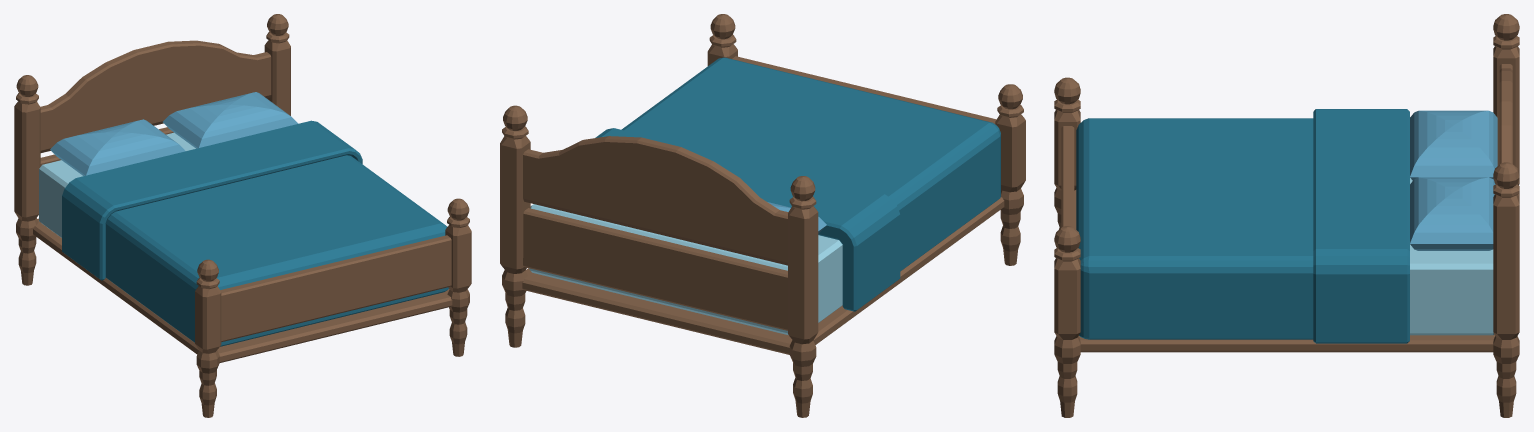
File: Prop_Bedroom_Bed_Queen.obj
The picture shows the model from 3 angles, left to right: view 1: azimuth 30°, elevation 25°; view 2: azimuth 150°, elevation 25°; view 3: azimuth 270°, elevation 25°; orthographic projection. The views are drawn at different scales.
Visible parts, largest first — view 1: object4, object5, object3, object1, object2; view 2: object5, object4, object2; view 3: object4, object5, object2, object1, object3.
Part boxes in pixels (x1,y1,x2,y2): object4: (62, 120, 448, 346); object5: (14, 14, 471, 417); object3: (50, 119, 185, 176); object1: (163, 92, 298, 148); object2: (39, 132, 195, 237); object5: (500, 14, 1025, 417); object4: (595, 57, 1000, 311); object2: (529, 204, 842, 335); object4: (1076, 109, 1409, 343); object5: (1054, 14, 1519, 417); object2: (1410, 178, 1494, 335); object1: (1410, 177, 1495, 250); object3: (1410, 110, 1497, 180).
Bounding box in the file's own units: 2.15 × 1.58 × 2.65.
